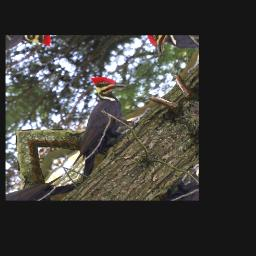Woodpecker: (26, 65, 162, 184)
